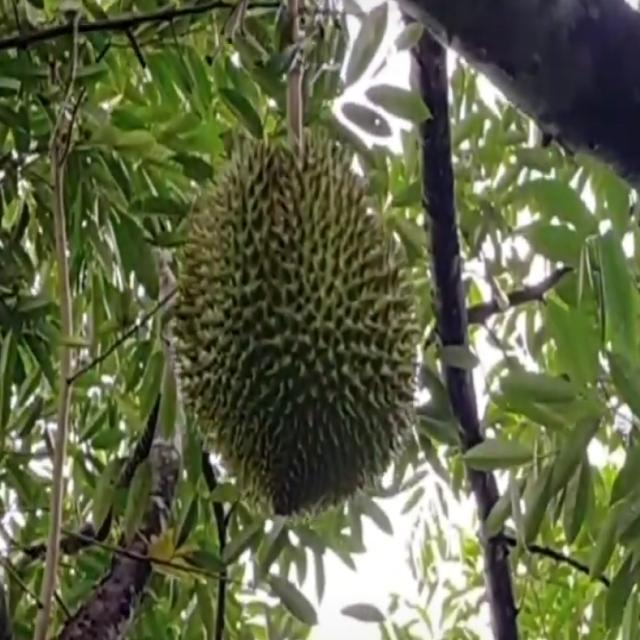immature: (169, 132, 420, 529)
